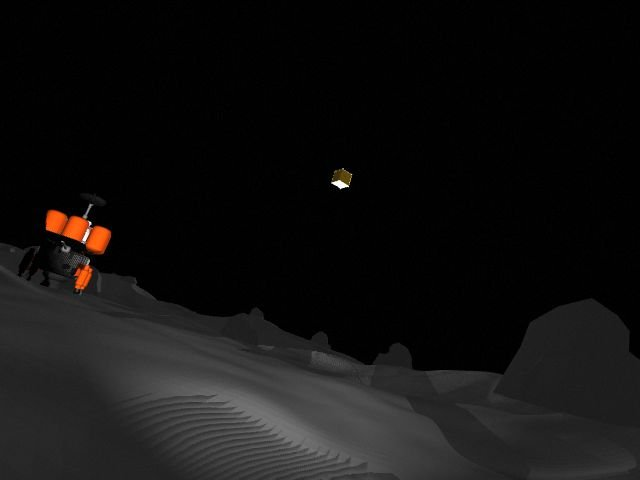homebase: (12, 190, 115, 302)
